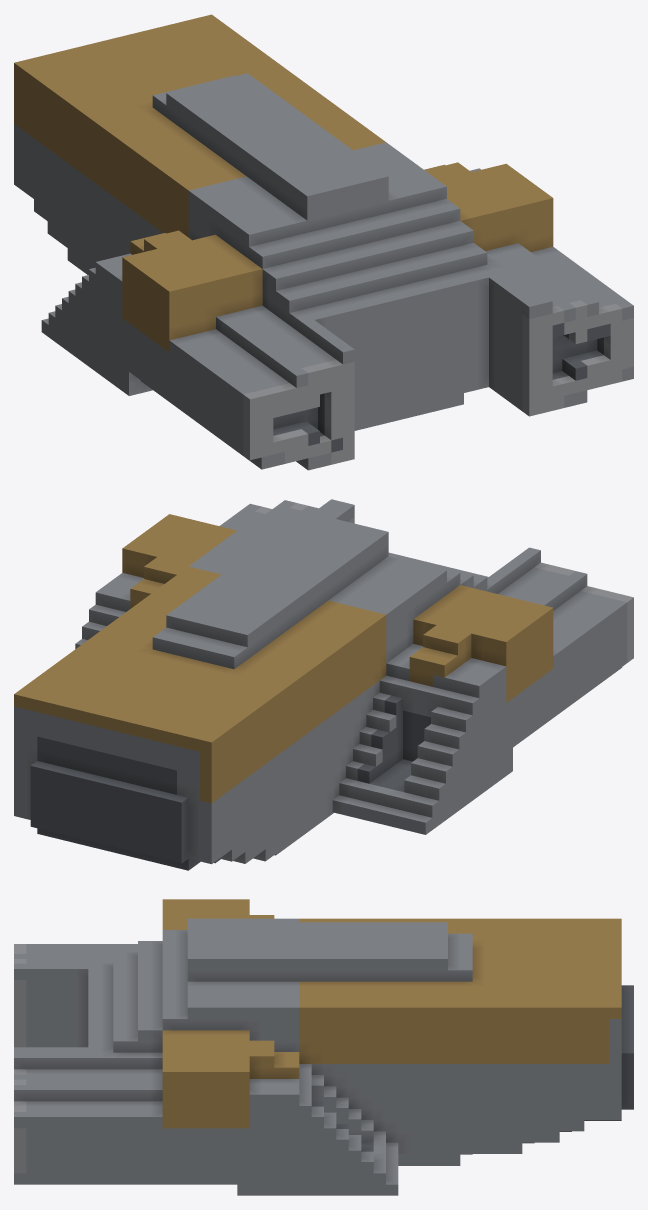
The model's file is cargo_ship.glb.
The picture shows the model from 3 angles, top to bottom: view 1: azimuth 30°, elevation 25°; view 2: azimuth 150°, elevation 25°; view 3: azimuth 270°, elevation 25°; orthographic projection. The views are drawn at different scales.
Visible parts, largest first — view 1: voxels; view 2: voxels; view 3: voxels.
Boxes of the visible parts, <box> form: voxels: <box>14,14,633,470</box>; voxels: <box>14,499,633,870</box>; voxels: <box>14,899,633,1195</box>.
Size of the model in its own units: 1.65 by 0.85 by 2.5.
